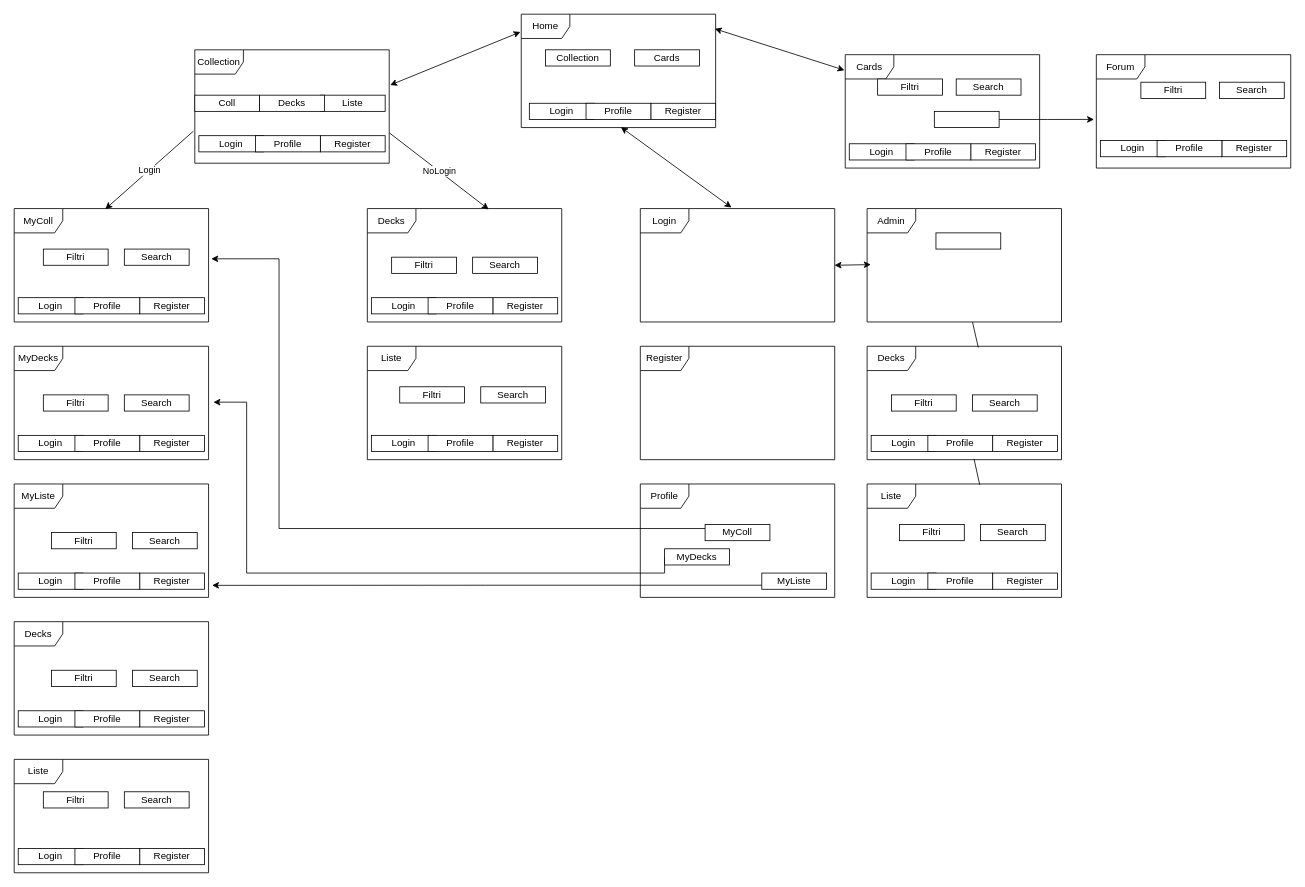
This 1305x887 diagram has some shape labels left out. The shapes that lost their labels are listed below. From the top down, each one's centre as x and y in pixels, then its label:
At point (966, 119): "Commenti".
At point (968, 240): "C.R.U.D".
